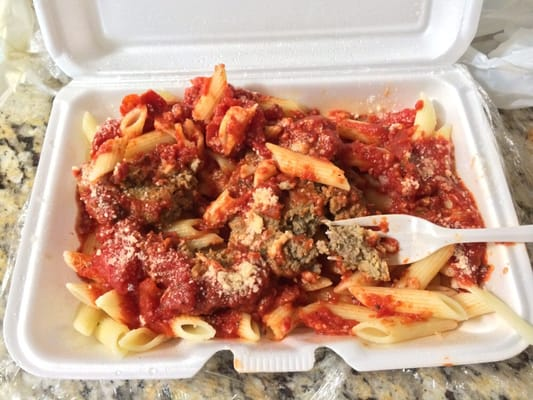burger: (326, 211, 533, 267)
salad: (322, 212, 533, 266)
